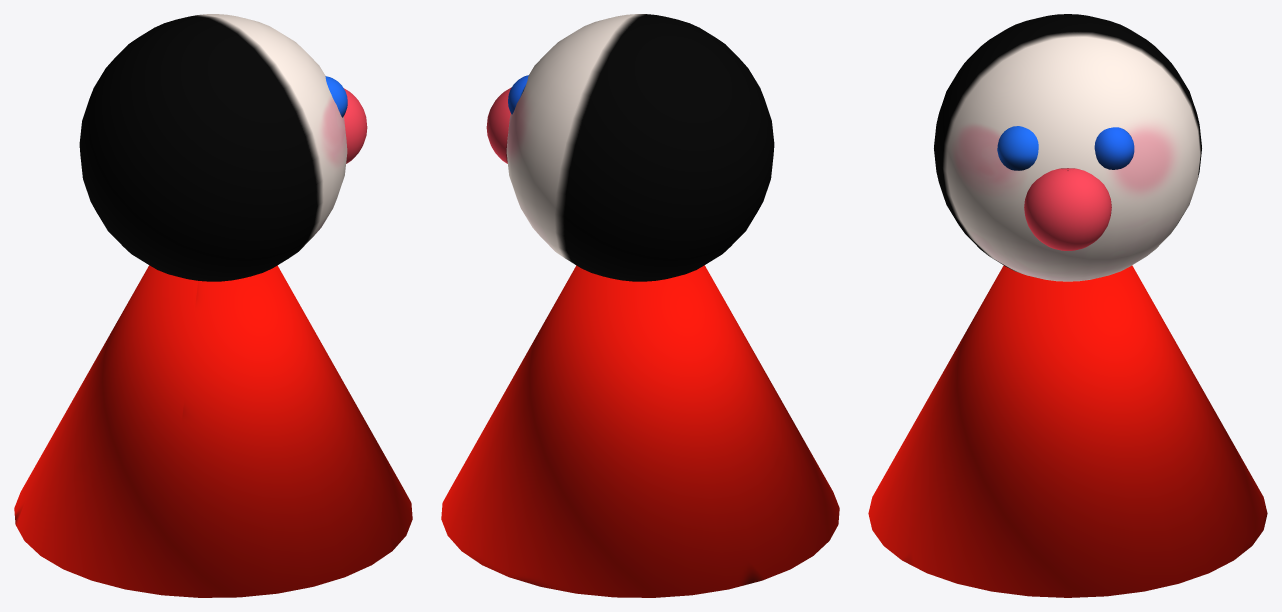
Rendered from baby.glb.
3 renders of one model, left to right at view 1: azimuth 30°, elevation 25°; view 2: azimuth 150°, elevation 25°; view 3: azimuth 270°, elevation 25°, orthographic.
Visible parts, largest first — view 1: Cone, Sphere, Sphere.001; view 2: Cone, Sphere, Sphere.001; view 3: Cone, Sphere, Sphere.001, Sphere.002, Sphere.003.
Boxes of the visible parts, x1,y1,x2,y2 form: Cone: [14, 265, 412, 597]; Sphere: [79, 14, 347, 281]; Sphere.001: [343, 88, 367, 163]; Cone: [441, 265, 839, 597]; Sphere: [506, 14, 774, 281]; Sphere.001: [486, 87, 511, 163]; Cone: [868, 265, 1267, 597]; Sphere: [934, 14, 1201, 281]; Sphere.001: [1024, 168, 1111, 250]; Sphere.002: [997, 126, 1038, 170]; Sphere.003: [1094, 127, 1134, 169].
Size of the model in its own units: 2 by 2.69 by 2.
5 materials, 5 textured.
